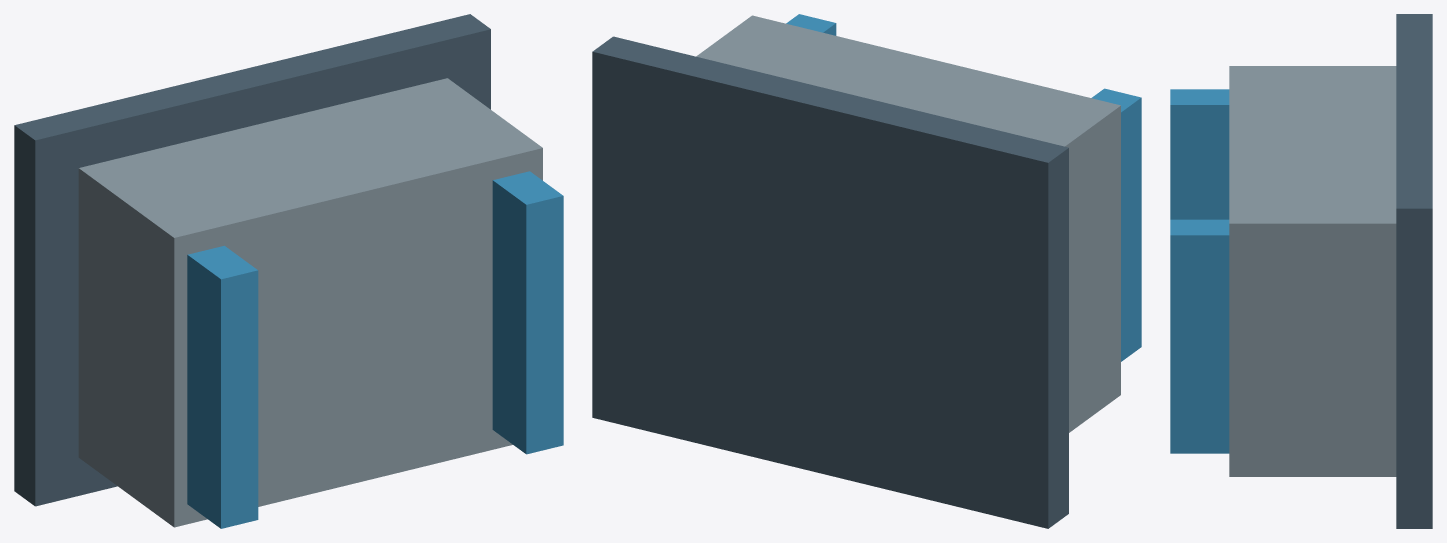
The model's file is b_power_stage2.glb.
3 renders of one model, left to right at view 1: azimuth 30°, elevation 25°; view 2: azimuth 150°, elevation 25°; view 3: azimuth 270°, elevation 25°, orthographic. The views are drawn at different scales.
Visible parts, largest first — view 1: main_structure, foundation, support_-1.44, support_1.44; view 2: foundation, main_structure, support_-1.44; view 3: main_structure, foundation, support_1.44, support_-1.44.
Part boxes in pixels (x1=…): main_structure: x1=78, y1=78, x2=542, y2=527; foundation: x1=14, y1=14, x2=490, y2=506; support_-1.44: x1=187, y1=245, x2=258, y2=528; support_1.44: x1=492, y1=171, x2=563, y2=454; foundation: x1=592, y1=36, x2=1068, y2=528; main_structure: x1=696, y1=15, x2=1120, y2=432; support_-1.44: x1=1091, y1=88, x2=1141, y2=361; main_structure: x1=1229, y1=66, x2=1396, y2=476; foundation: x1=1396, y1=14, x2=1432, y2=528; support_1.44: x1=1170, y1=219, x2=1229, y2=453; support_-1.44: x1=1170, y1=89, x2=1229, y2=219.
Bounding box in the file's own units: 4.3 × 3.3 × 2.45.
